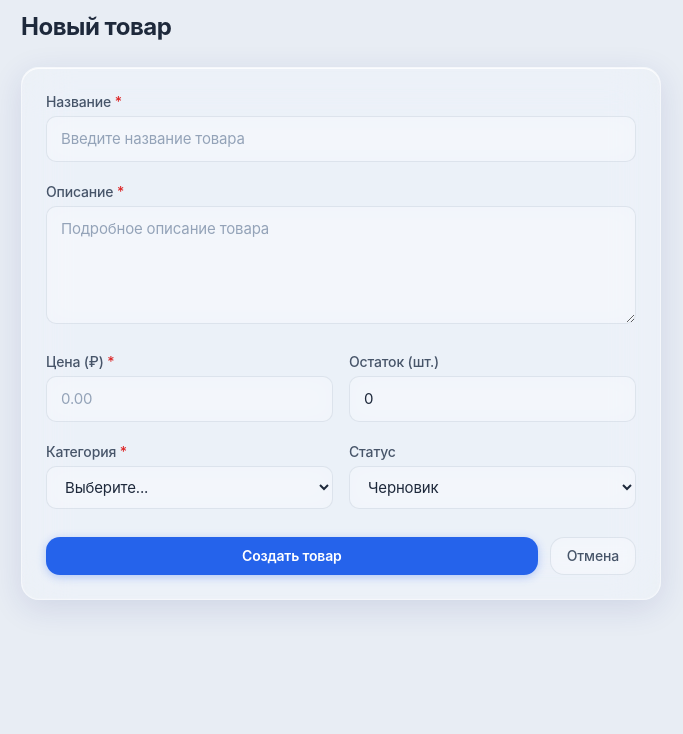
Product management (integration) › validates required fields
This screenshot has width=683, height=734.
Click the button "Создать товар". click: x=292, y=556
box: [46, 537, 538, 575]
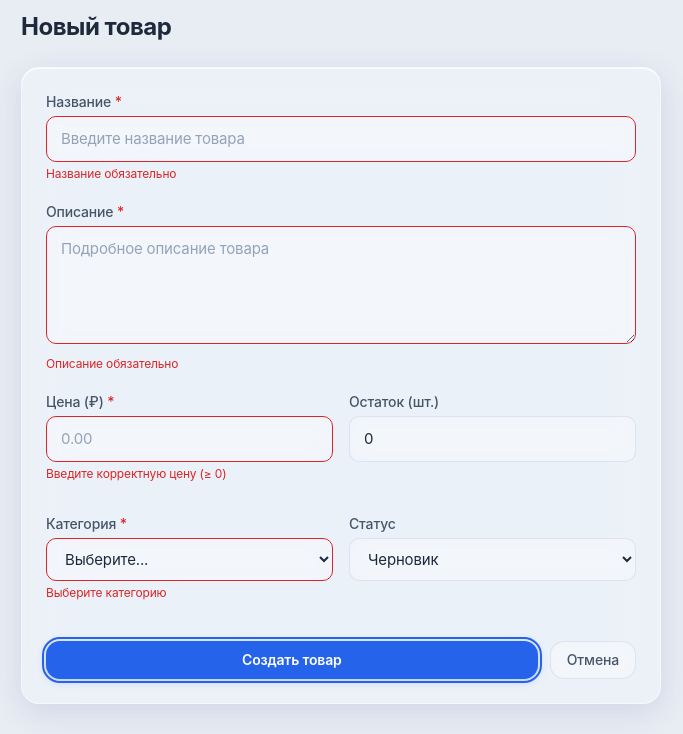
Expected: the text "Название обязательно" is shown, [46, 166, 176, 181]
Expected: the text "Описание обязательно" is shown, [46, 356, 178, 371]
Expected: the text "Выберите категорию" is shown, [46, 585, 167, 600]
